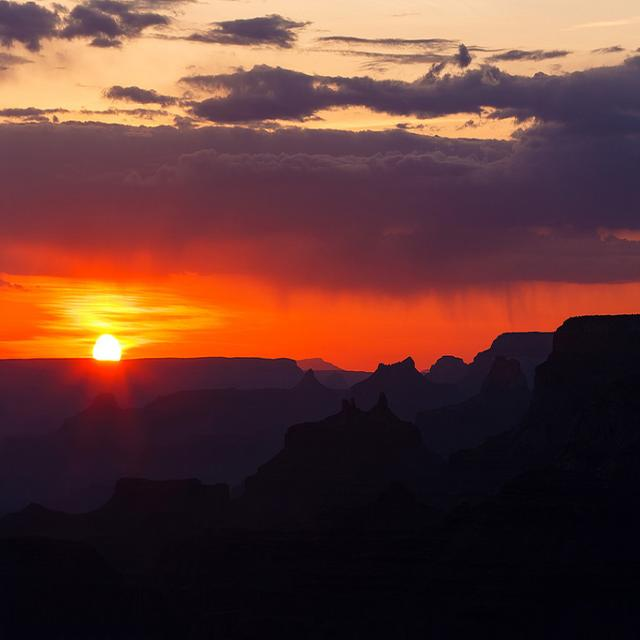no_fire: (6, 253, 210, 399)
